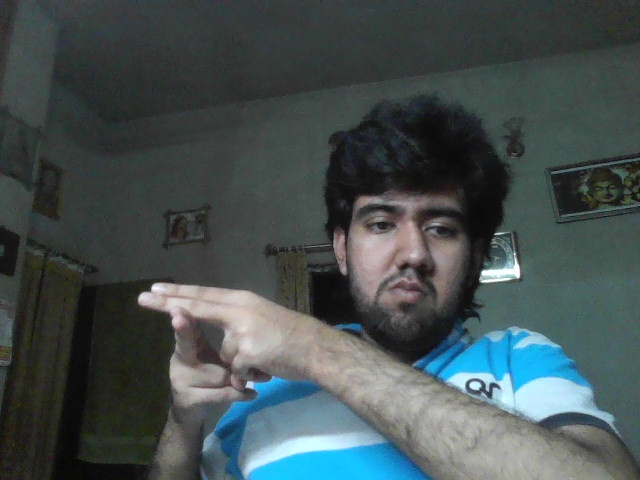Name: (137, 282, 311, 421)
